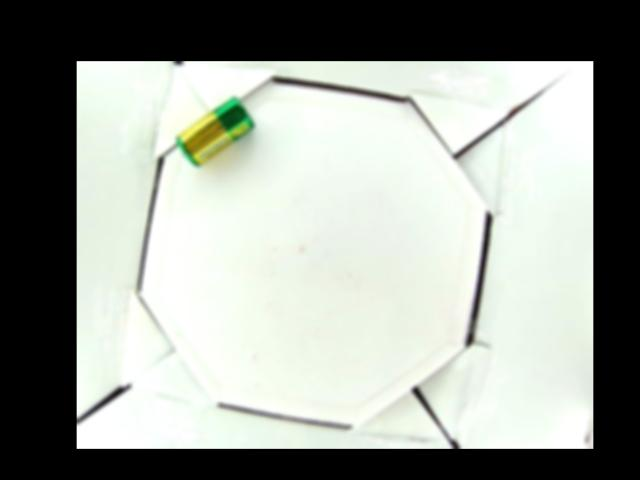Battery: (175, 95, 257, 167)
